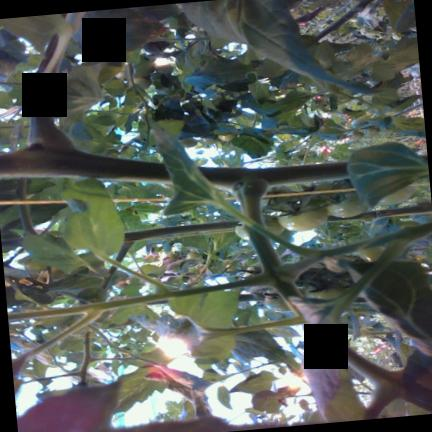6kp_petiole: (0, 74, 124, 180), (197, 164, 312, 226)
MainStem: (0, 149, 174, 182), (200, 161, 348, 189), (124, 220, 239, 241), (316, 0, 371, 40), (327, 203, 432, 221)
tomato: (278, 207, 327, 230), (326, 191, 367, 217), (235, 218, 284, 239), (376, 186, 415, 205), (359, 246, 384, 261), (265, 297, 290, 312), (133, 77, 151, 88), (180, 137, 197, 147), (351, 118, 368, 127), (218, 132, 237, 140), (364, 126, 379, 136), (115, 66, 126, 79), (349, 130, 363, 140), (200, 137, 218, 143)
